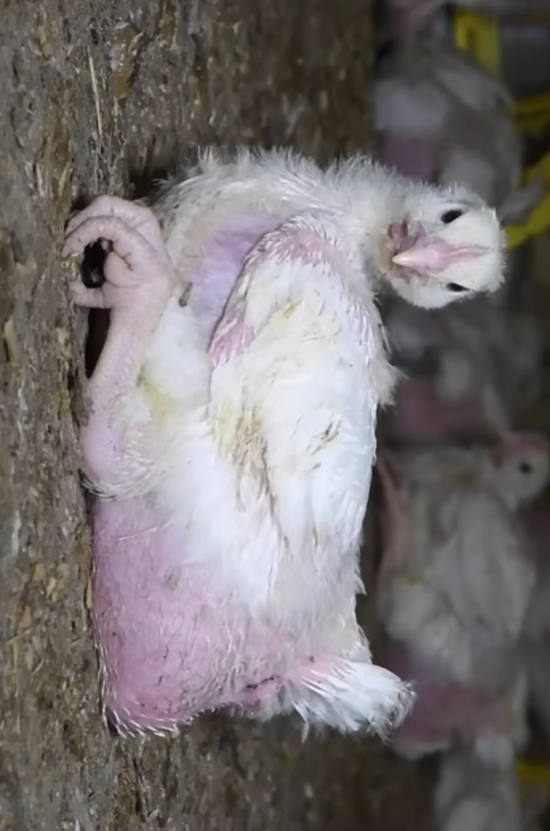Unhealthy: (47, 137, 514, 753)
